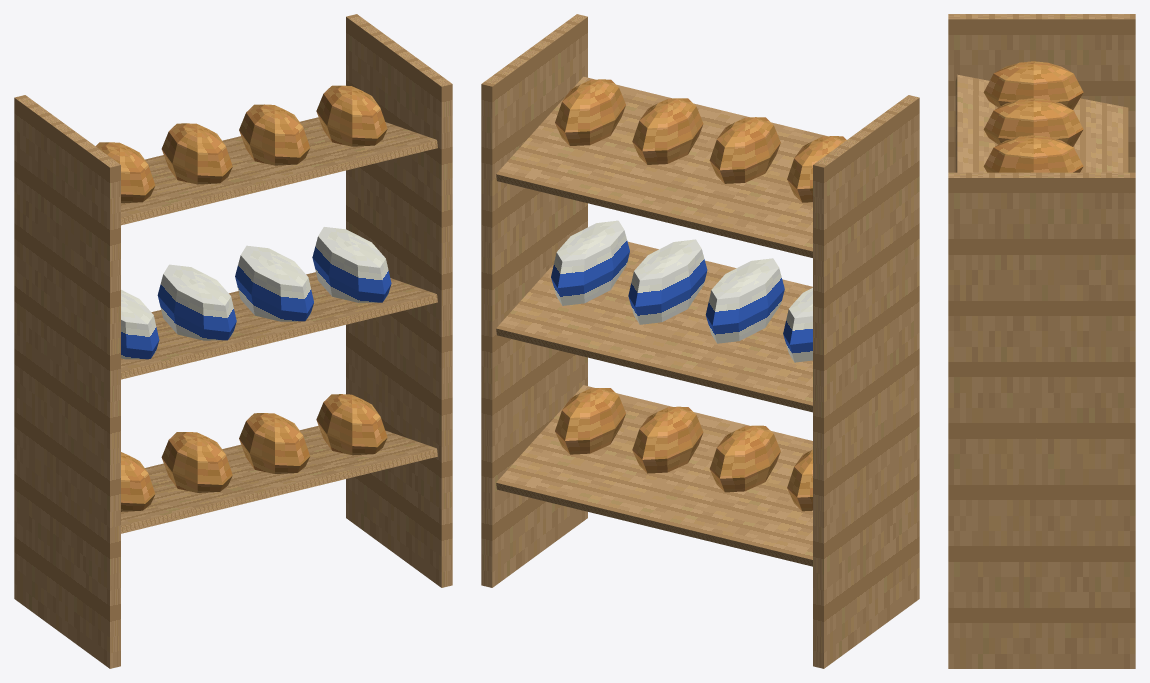
File: PSX_ShelvesPropsNormalItemsBreadRack.glb
3 views of the same model, side by side, from view 1: azimuth 30°, elevation 25°; view 2: azimuth 150°, elevation 25°; view 3: azimuth 270°, elevation 25° (orthographic). The views are drawn at different scales.
Visible parts, largest first — view 1: BreadRack; view 2: BreadRack; view 3: BreadRack.
Part boxes in pixels (box(x1,y1,x2,y2)): BreadRack: box(14, 14, 452, 668); BreadRack: box(481, 14, 919, 668); BreadRack: box(948, 14, 1135, 668).
Bounding box in the file's own units: 0.93 × 1.3 × 0.45.
Materials: 3 (3 with a texture image).
